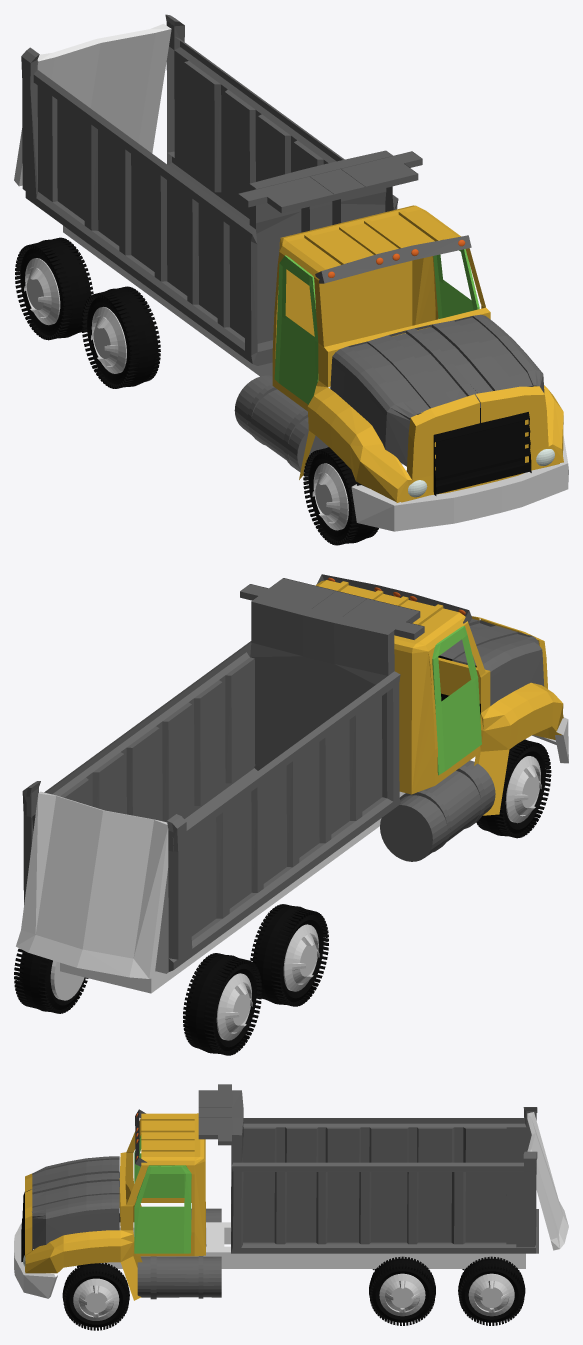
The model's file is CaterpillarCT660.dae.
3 renders of one model, top to bottom at view 1: azimuth 30°, elevation 25°; view 2: azimuth 150°, elevation 25°; view 3: azimuth 270°, elevation 25°, orthographic. The views are drawn at different scales.
Parts seen in each view (by area): view 1: Dump, Cab, Hood, TailGate, bumper, radiator, Torus_004, Torus_005, DieselTank_001, rightDoor, Torus_003, headLights (+5 smaller); view 2: Dump, TailGate, Cab, DieselTank_001, Torus_005, Torus_004, rightDoor, Hood, chassis, Torus_003, Torus_002, rim_004 (+4 smaller); view 3: Dump, Cab, Hood, chassis, DieselTank, leftDoor, Torus_002, Torus_001, Torus, TailGate, rim_001, rim (+3 smaller).
Boxes of the visible parts, x1,y1,x2,y2 form: Dump: [21, 14, 422, 365]; Cab: [272, 205, 563, 502]; Hood: [330, 314, 544, 466]; TailGate: [14, 24, 171, 186]; bumper: [351, 435, 568, 531]; radiator: [433, 408, 531, 495]; Torus_004: [81, 286, 160, 388]; Torus_005: [15, 237, 93, 340]; DieselTank_001: [234, 375, 328, 473]; rightDoor: [274, 255, 318, 404]; Torus_003: [303, 447, 378, 545]; headLights: [315, 235, 471, 283]; Dump: [22, 578, 424, 973]; TailGate: [16, 791, 168, 978]; Cab: [316, 580, 563, 815]; DieselTank_001: [380, 760, 495, 861]; Torus_005: [183, 953, 262, 1055]; Torus_004: [250, 904, 328, 1006]; rightDoor: [432, 626, 481, 775]; Hood: [440, 619, 544, 705]; chassis: [60, 791, 405, 993]; Torus_003: [476, 739, 551, 838]; Torus_002: [14, 948, 88, 1013]; rim_004: [283, 924, 319, 991]; Dump: [198, 1084, 538, 1253]; Cab: [25, 1113, 205, 1300]; Hood: [31, 1156, 119, 1249]; chassis: [100, 1222, 525, 1268]; DieselTank: [137, 1256, 221, 1299]; leftDoor: [134, 1165, 191, 1253]; Torus_002: [458, 1256, 525, 1325]; Torus_001: [369, 1256, 435, 1325]; Torus: [62, 1262, 129, 1330]; TailGate: [527, 1112, 568, 1250]; rim_001: [379, 1273, 425, 1316]; rim: [73, 1278, 119, 1320].
Size of the model in its own units: 5.54 by 17.69 by 6.59.
